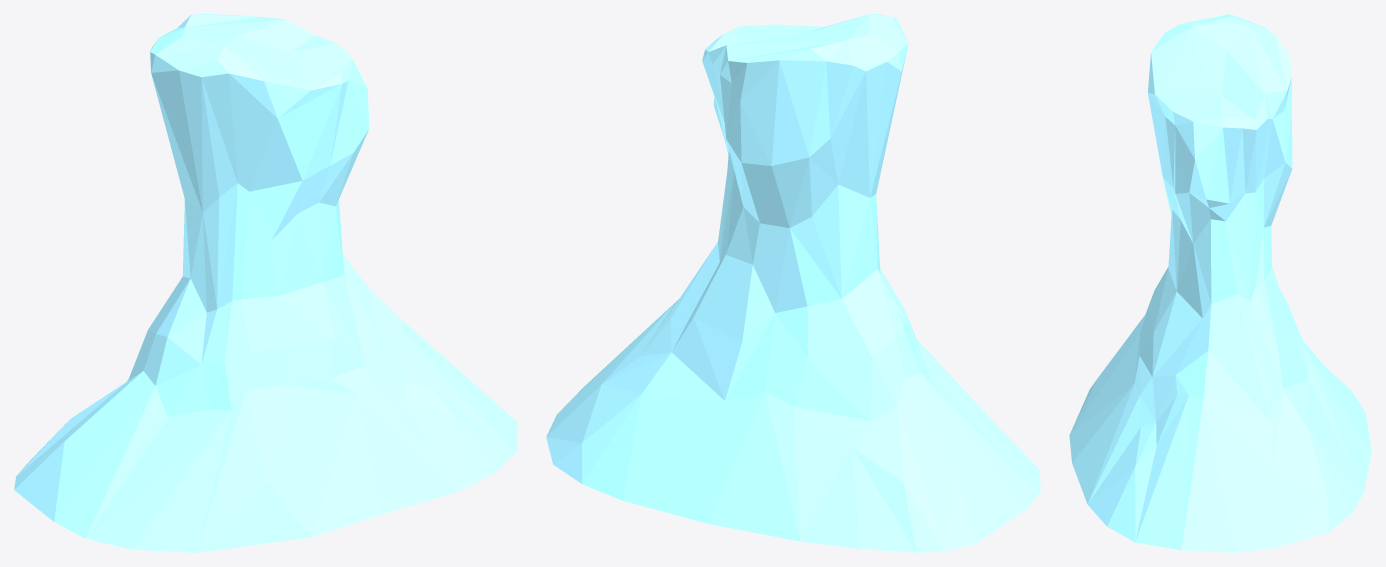
The model's file is Obstacle_1.glb.
3 views of the same model, side by side, from view 1: azimuth 30°, elevation 25°; view 2: azimuth 150°, elevation 25°; view 3: azimuth 270°, elevation 25° (orthographic). The views are drawn at different scales.
Parts seen in each view (by area): view 1: Obstacle_1; view 2: Obstacle_1; view 3: Obstacle_1.
Part boxes in pixels (x1,y1,x2,y2): Obstacle_1: [14, 14, 517, 552]; Obstacle_1: [546, 14, 1040, 552]; Obstacle_1: [1069, 14, 1371, 552].
Size of the model in its own units: 11.43 by 10.85 by 7.39.
